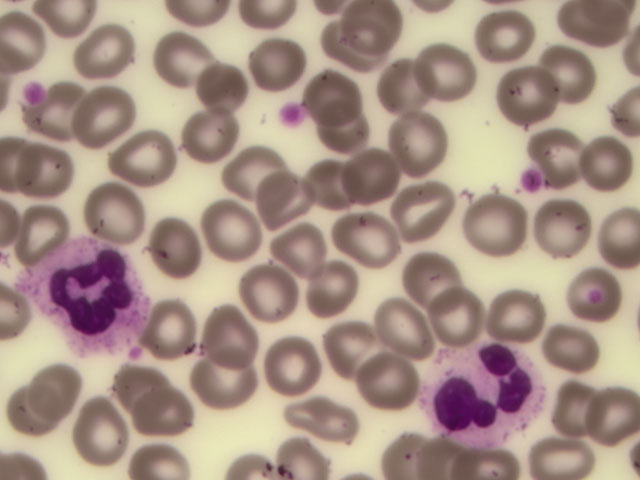Platelets: (278, 96, 304, 127), (521, 164, 540, 193), (23, 80, 44, 102)
RBC: (71, 20, 131, 79), (87, 82, 147, 141), (42, 83, 102, 142), (12, 142, 72, 201), (115, 133, 175, 192), (84, 186, 144, 245), (8, 195, 68, 254), (147, 209, 207, 268), (209, 198, 269, 257), (220, 142, 280, 201), (251, 170, 311, 229), (181, 106, 241, 165), (191, 60, 251, 119), (158, 27, 218, 86), (251, 37, 311, 96), (326, 11, 386, 70), (307, 73, 367, 132), (316, 98, 376, 157), (340, 143, 400, 202), (311, 157, 371, 216), (337, 209, 397, 268), (271, 215, 331, 274), (245, 269, 305, 328), (301, 261, 361, 320), (208, 301, 268, 360), (144, 292, 204, 351), (203, 351, 263, 410), (110, 351, 170, 410), (137, 380, 197, 439), (82, 404, 142, 463), (34, 360, 94, 419), (9, 382, 69, 441), (278, 421, 338, 480), (293, 393, 353, 452), (274, 332, 334, 391), (321, 324, 381, 383), (364, 347, 424, 406), (370, 294, 430, 353), (398, 246, 458, 305), (423, 288, 483, 347), (494, 290, 554, 349), (546, 317, 606, 376), (551, 384, 611, 443), (580, 385, 640, 444), (538, 421, 598, 480), (559, 278, 619, 337), (580, 211, 640, 270), (535, 197, 595, 256), (469, 197, 529, 256), (392, 181, 452, 240), (391, 117, 451, 176), (374, 54, 434, 113), (408, 40, 468, 99), (476, 11, 536, 70), (495, 60, 555, 119), (528, 49, 588, 108), (543, 124, 603, 183), (580, 135, 640, 194), (564, 1, 624, 59)
WBC: (33, 241, 152, 356), (430, 340, 544, 443)
